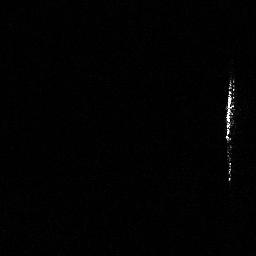ship: (221, 74, 239, 183)
